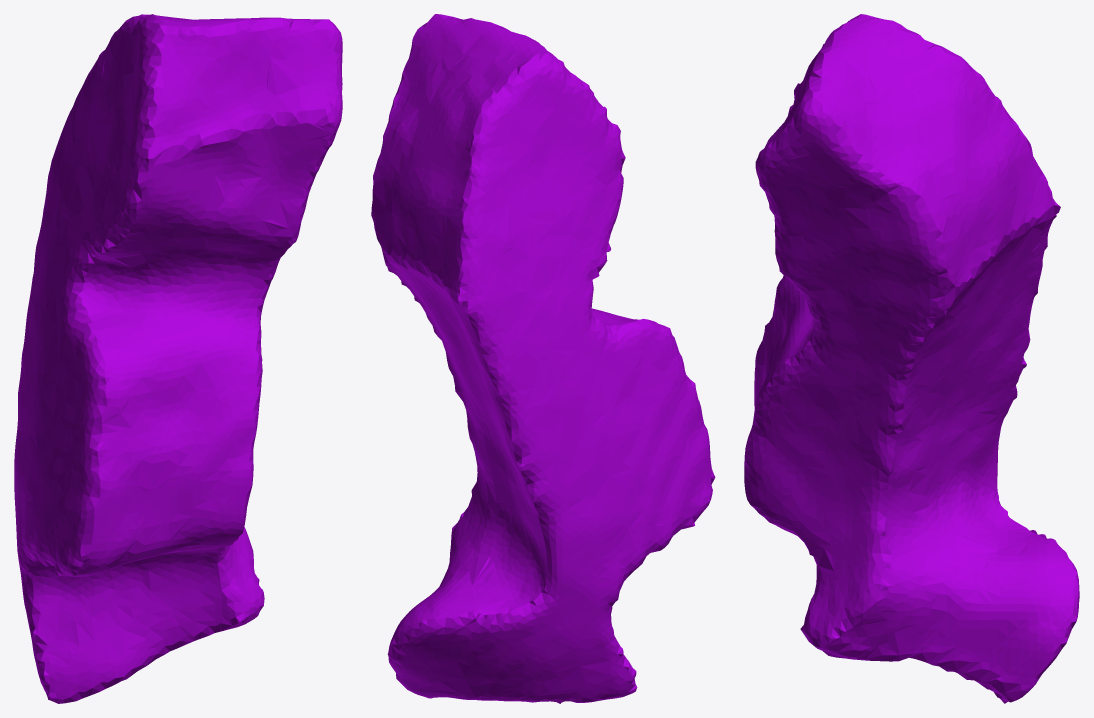
Rendered from Model_10129_LH__Temporal_area_TE2_(TE2).obj.
The picture shows the model from 3 angles, left to right: view 1: azimuth 30°, elevation 25°; view 2: azimuth 150°, elevation 25°; view 3: azimuth 270°, elevation 25°; orthographic projection. The views are drawn at different scales.
Size of the model in its own units: 3.46 by 7.42 by 3.38.
